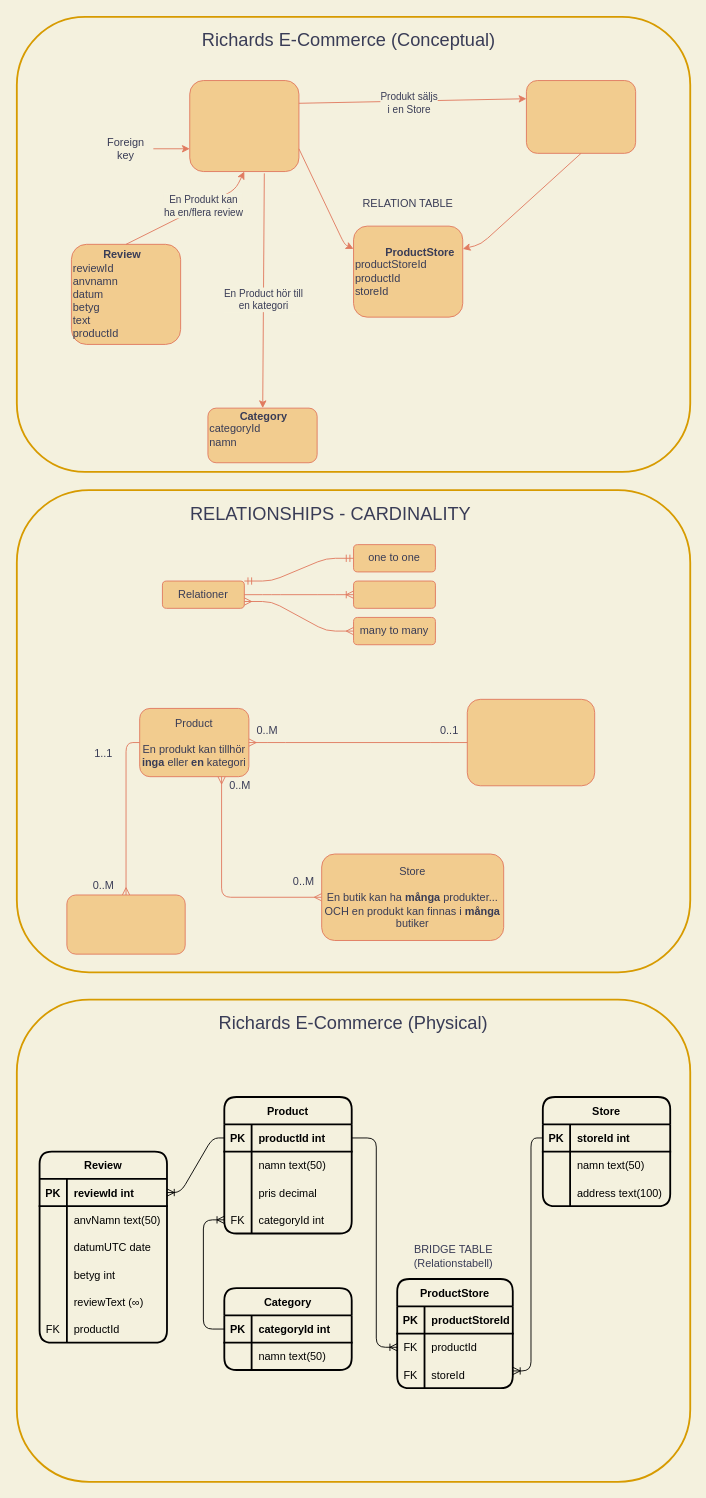
Some shapes in this 706 by 1498 pixel diagram are drawn without their labels. Each missing label, with the centre of its shape:
Category En kategori kan innehåller inga eller många produkter: the point at 530,742
one to many: the point at 394,594
Product ProductId namn pris categoryId: the point at 244,126
Review En review måste tillhör max en produkt: the point at 125,924
Store storeId Namn Address: the point at 581,116
